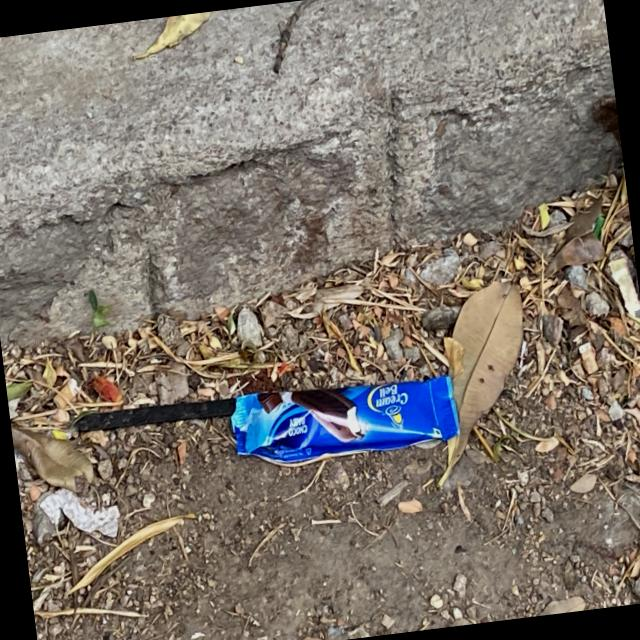giay_goi: (230, 376, 460, 465)
